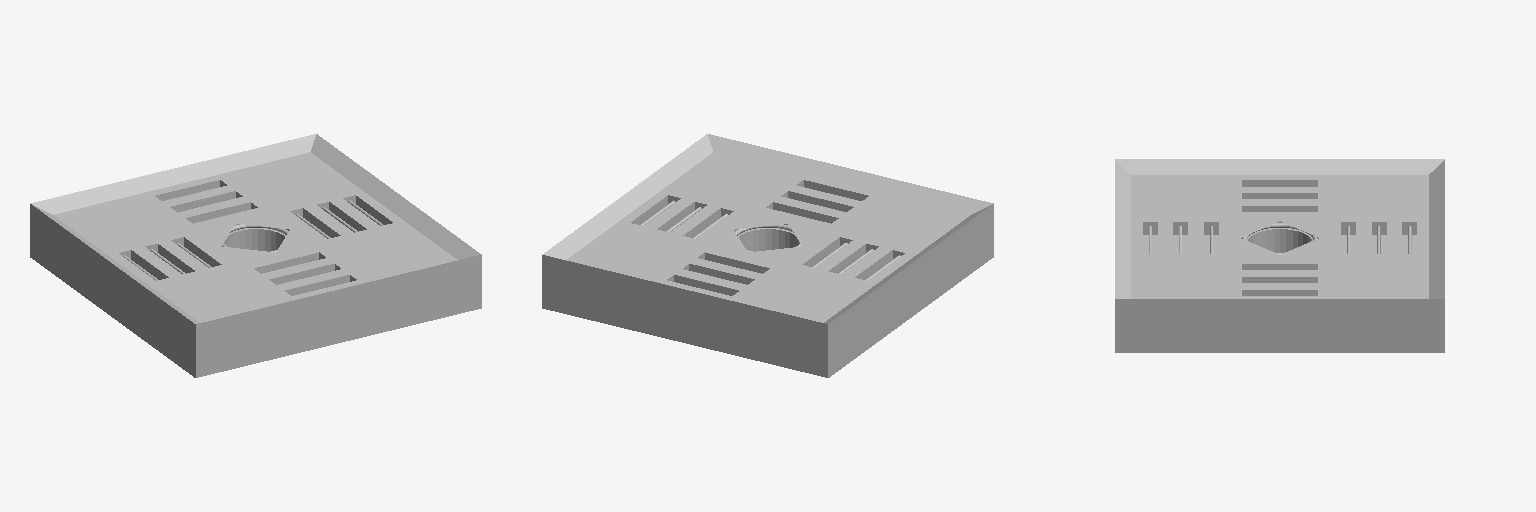
The model's file is WallZero2.obj.
3 renders of one model, left to right at view 1: azimuth 30°, elevation 25°; view 2: azimuth 150°, elevation 25°; view 3: azimuth 270°, elevation 25°, orthographic.
Visible parts, largest first — view 1: Cube.001; view 2: Cube.001; view 3: Cube.001.
Boxes of the visible parts, x1,y1,x2,y2 form: Cube.001: [30, 134, 481, 377]; Cube.001: [542, 134, 993, 377]; Cube.001: [1115, 159, 1444, 352].
Bounding box in the file's own units: 2 × 0.36 × 2.